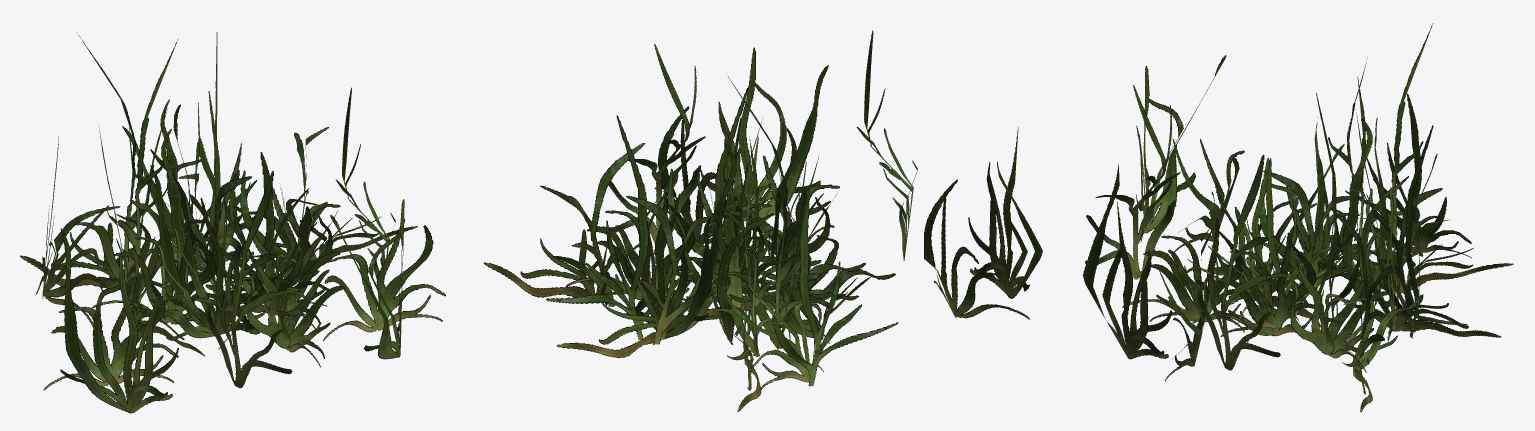
File: dom-grass-prototype.glb
3 renders of one model, left to right at view 1: azimuth 30°, elevation 25°; view 2: azimuth 150°, elevation 25°; view 3: azimuth 270°, elevation 25°, orthographic. The views are drawn at different scales.
Visible parts, largest first — view 1: Bermuda tuft | shared geometry; view 2: Bermuda tuft | shared geometry; view 3: Bermuda tuft | shared geometry.
Boxes of the visible parts, x1,y1,x2,y2 form: Bermuda tuft | shared geometry: (20, 32, 445, 413); Bermuda tuft | shared geometry: (483, 30, 1042, 411); Bermuda tuft | shared geometry: (1082, 23, 1513, 412).
Bounding box in the file's own units: 0.207 × 0.1207 × 0.1744.
Materials: 1 (1 with a texture image).
